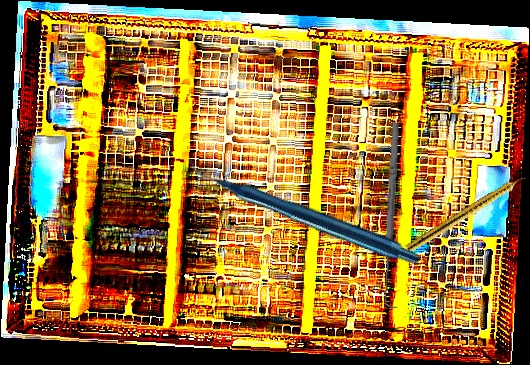Handpiece: (186, 81, 422, 338), (405, 172, 529, 256)
Hook Surgical: (379, 122, 408, 308)
